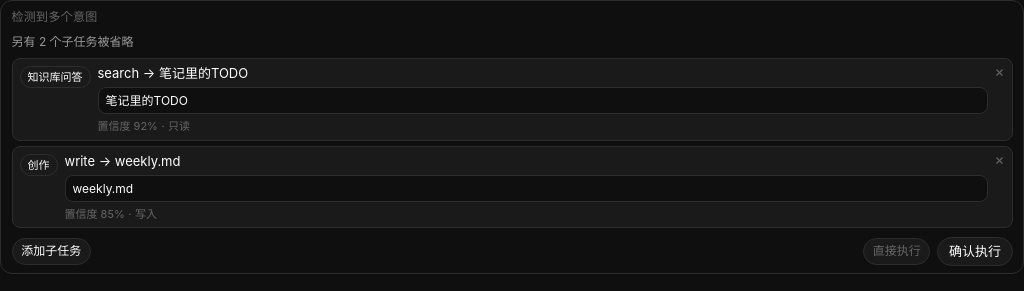
SplitConfirmCard — 渲染与编辑 › 删除行 → 该行移除，其余行保留
Expected: the number of list items with test id "split-row" is 2, x1=12 y1=58 x2=1012 y2=140; x1=12 y1=146 x2=1012 y2=228
Click the button with test id "split-delete-s1" at (1000, 72), box x1=995 y1=64 x2=1004 y2=79
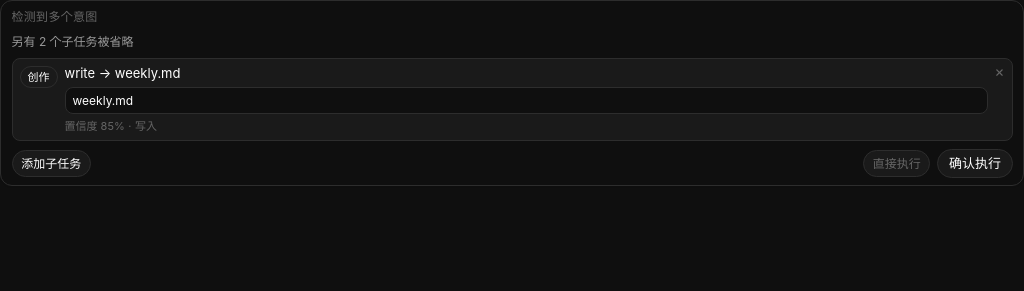
Expected: the text "write → weekly.md" is shown, x1=64 y1=65 x2=180 y2=81
Expected: the number of list items with test id "split-row" is 1, x1=12 y1=58 x2=1012 y2=140
Expected: the text "search → 笔记里的TODO" is gone
